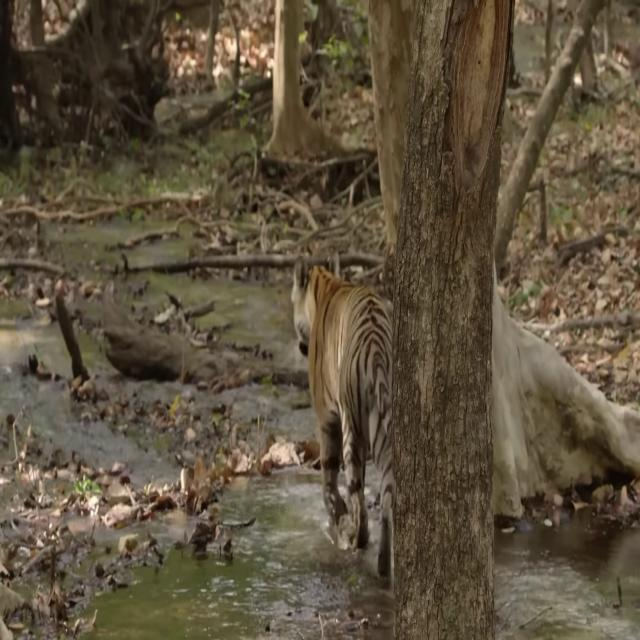tiger: (290, 249, 392, 585)
